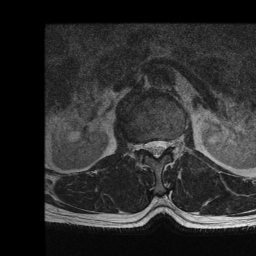CCS_normal: (152, 132, 160, 165)
LFS_normal: (168, 131, 176, 154)
LLS_normal: (160, 132, 168, 156)
RFS_normal: (137, 132, 145, 157)
RLS_normal: (145, 133, 152, 158)
